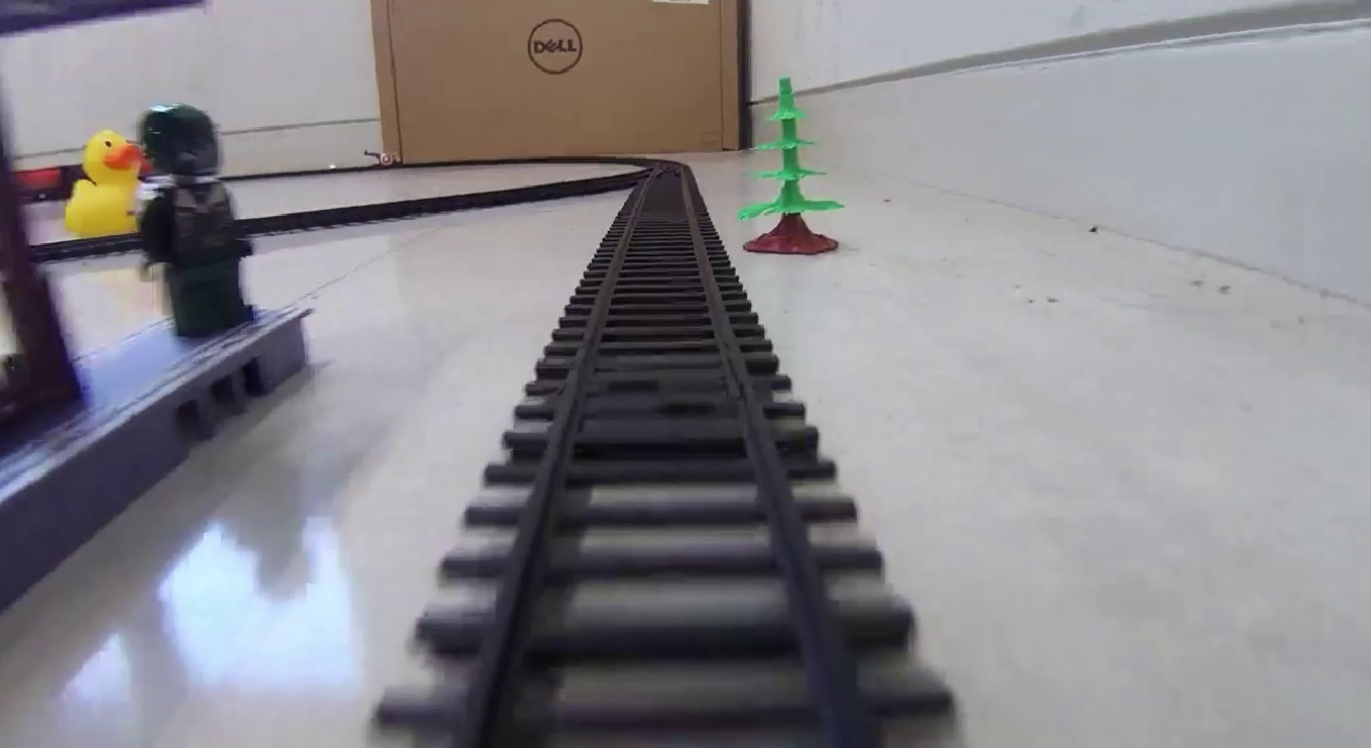people: (136, 107, 256, 337)
tree: (738, 77, 842, 258)
